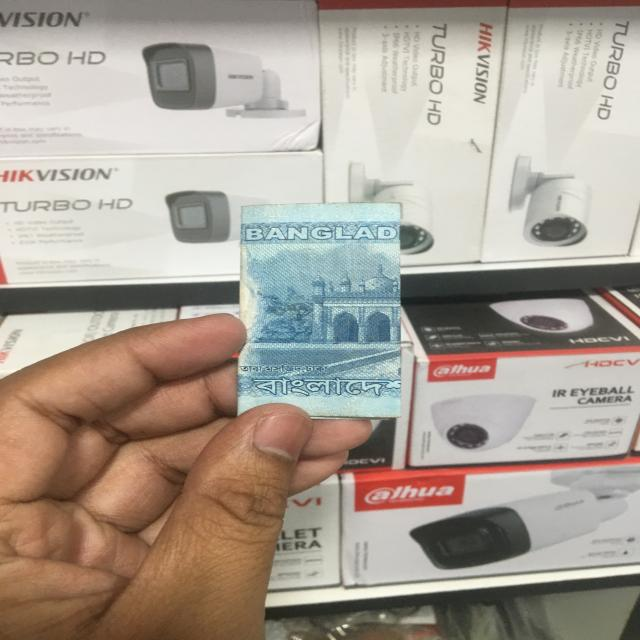Taka: (242, 202, 408, 418)
